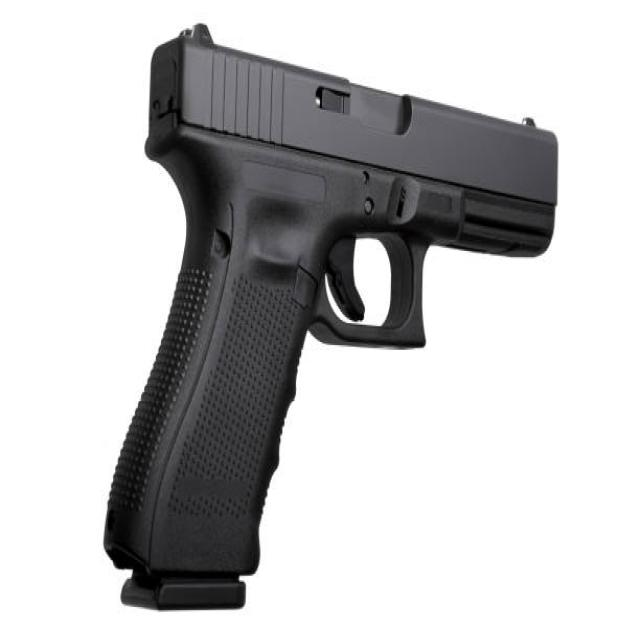pistol: (93, 19, 563, 615)
